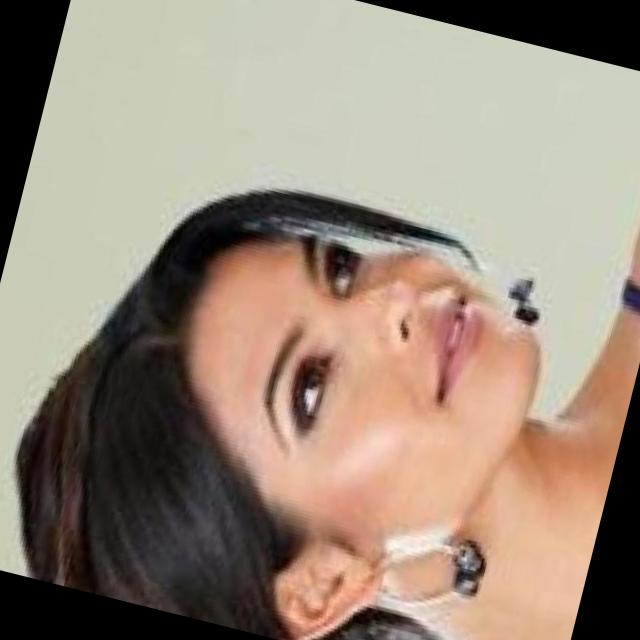bareface: (41, 185, 516, 640)
